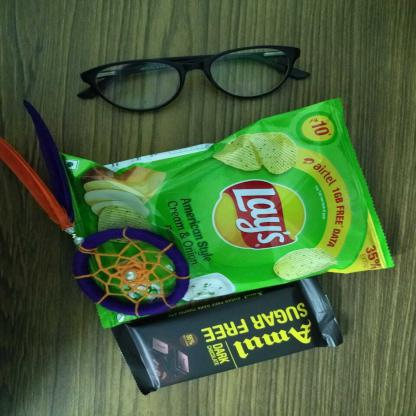cream_and_onion: (71, 113, 395, 304)
